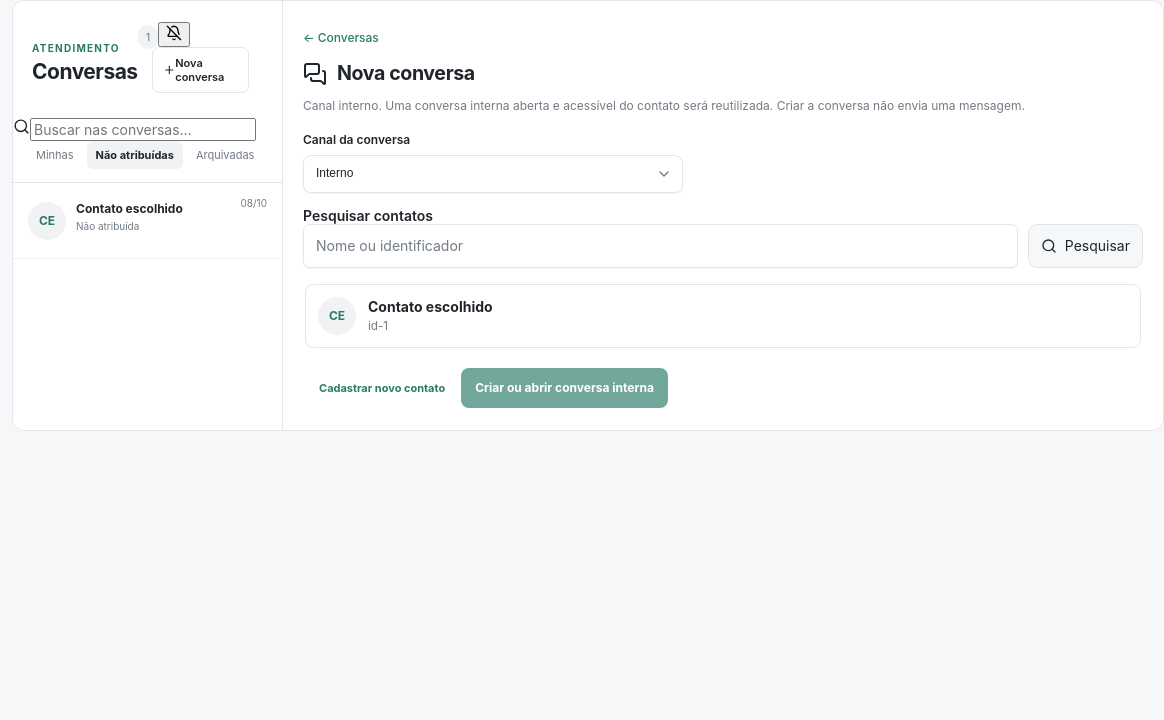
Test: M1 manual internal conversation flow › requires an international number and explicit confirmation; typing never resolves or creates
Select "WhatsApp" in the dropdown named "Canal da nova conversa": (493, 174) [303,155,683,193]
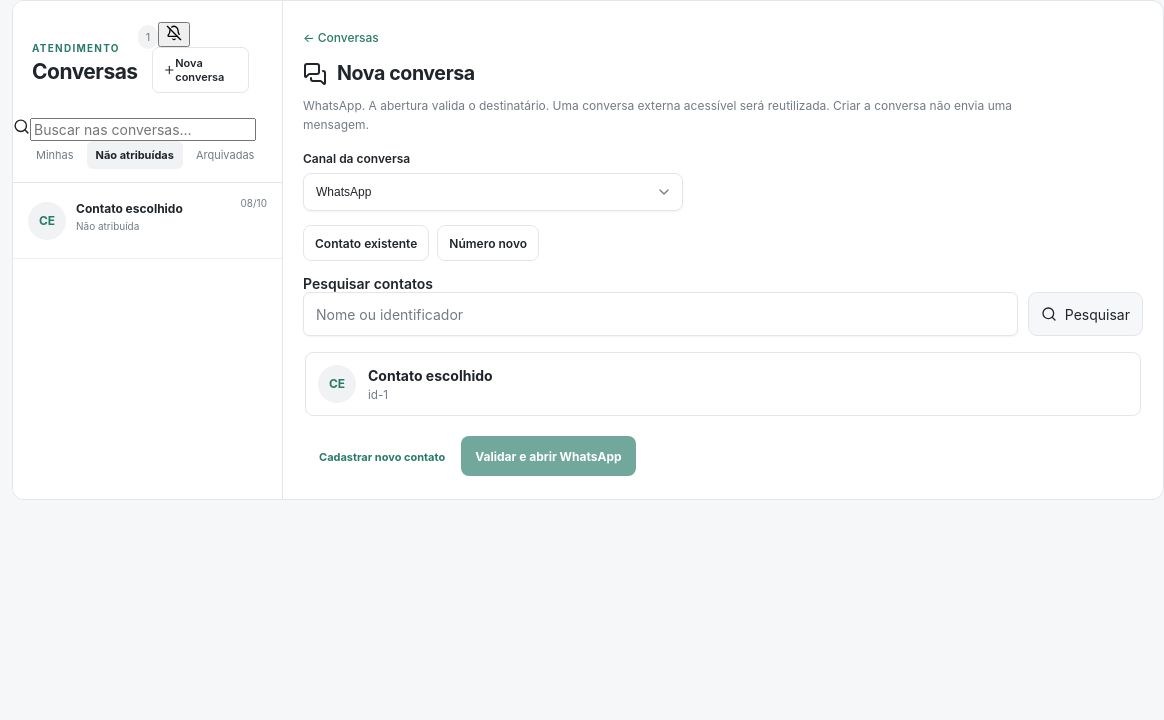
Click the button "Número novo": (488, 243) [437,225,539,261]
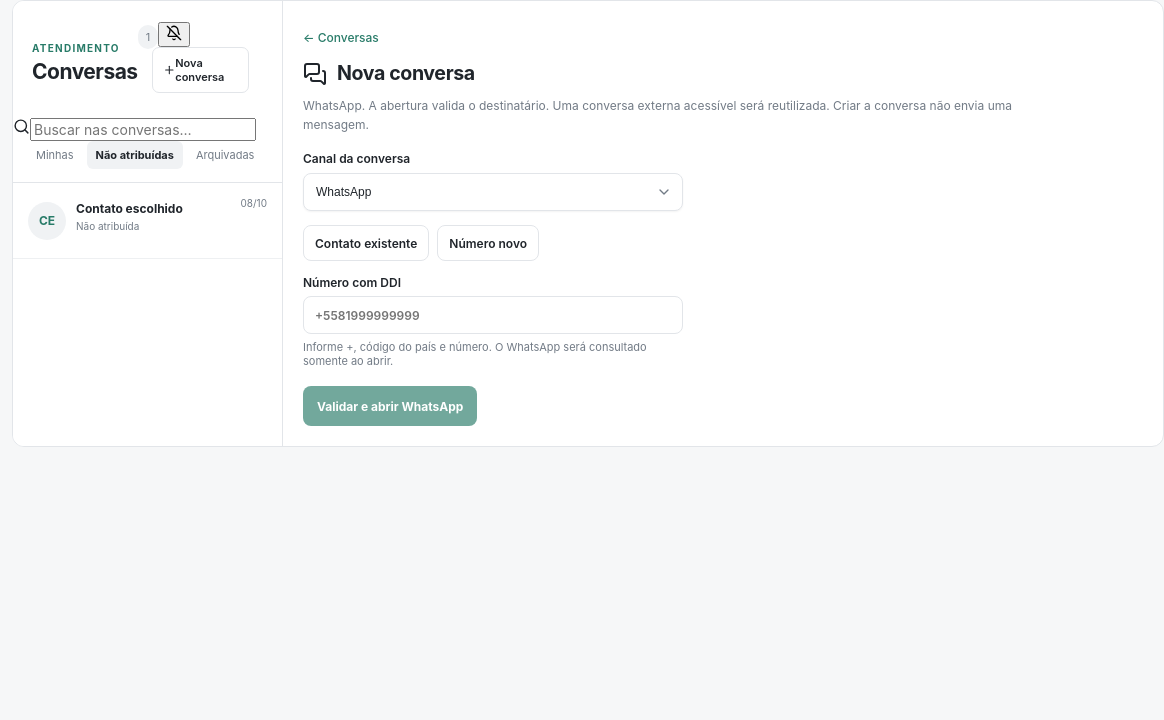
In the field labelled "Número com DDI": (493, 315) [303,296,683,334], type "81999999999"
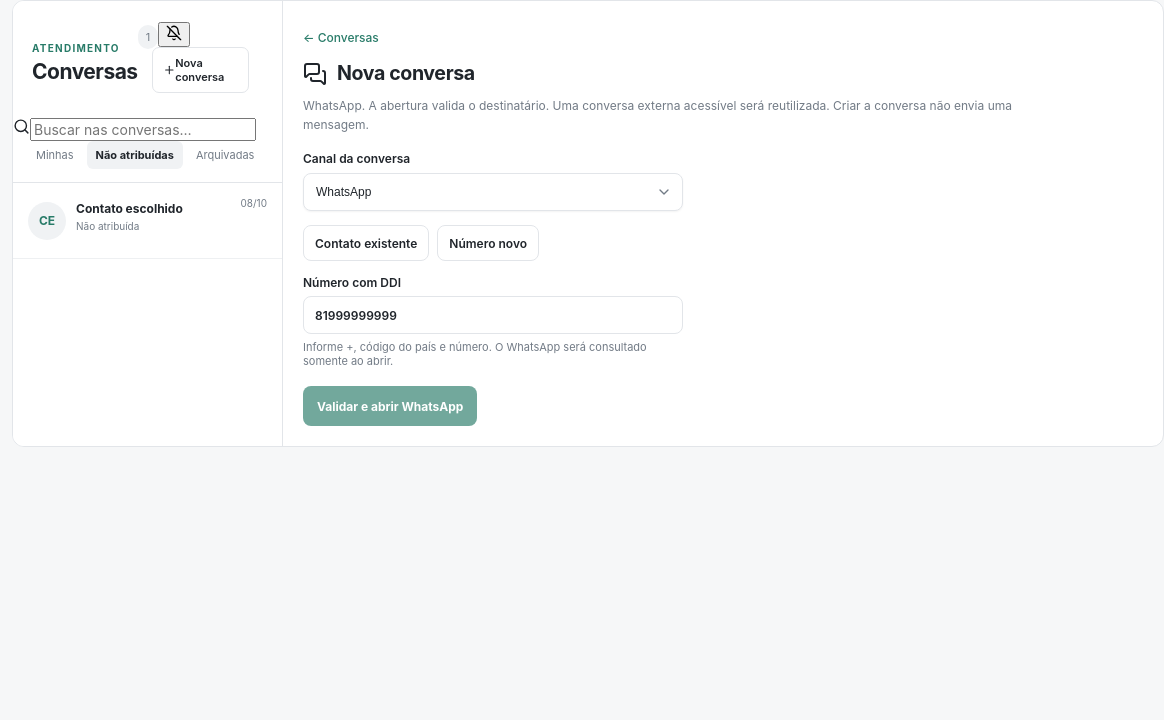
Expected: the button "Validar e abrir WhatsApp" is disabled, [303,386,477,426]
Replace the text in the field labelled "Número com DDI" with "+5581999999999": (493, 315) [303,296,683,334]
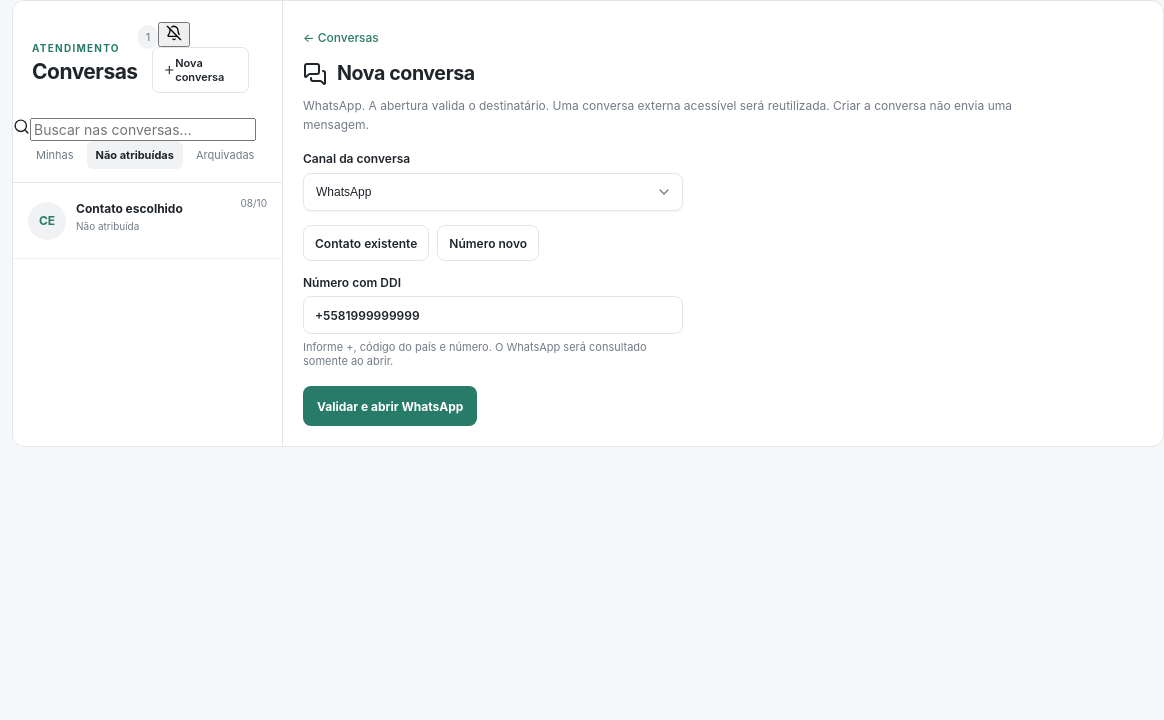
Click the button "Validar e abrir WhatsApp": (390, 406) [303,386,477,426]
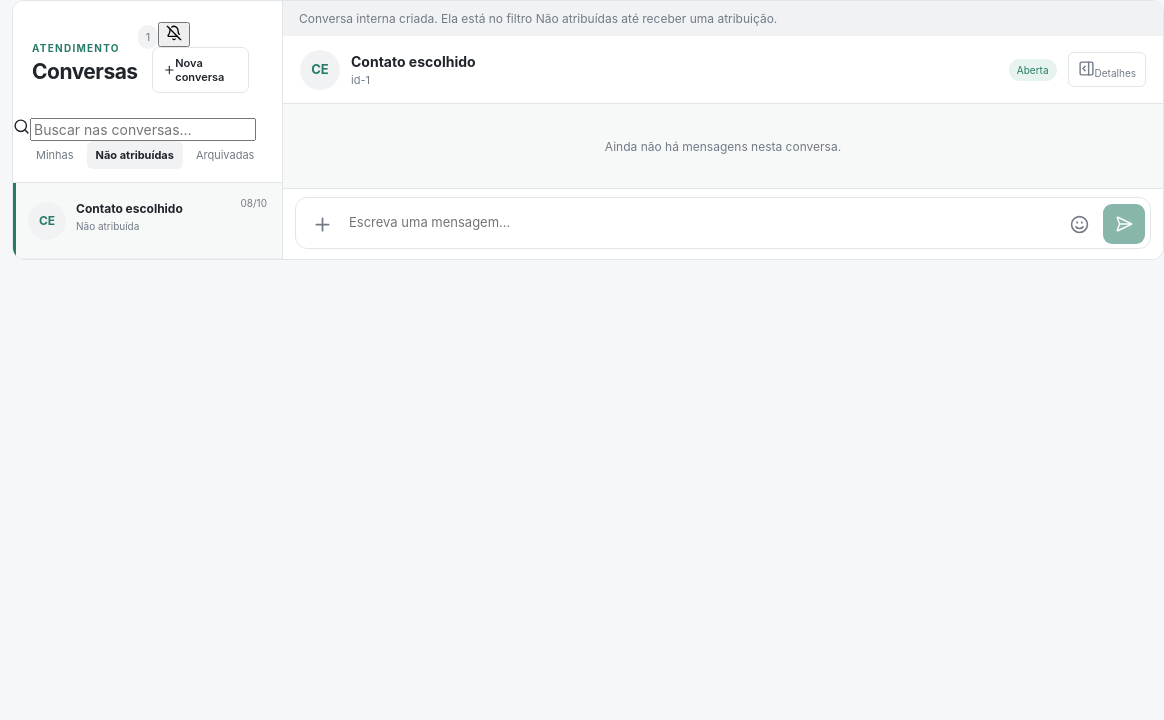
Expected: the heading "Contato escolhido" is shown, [351,52,476,70]
